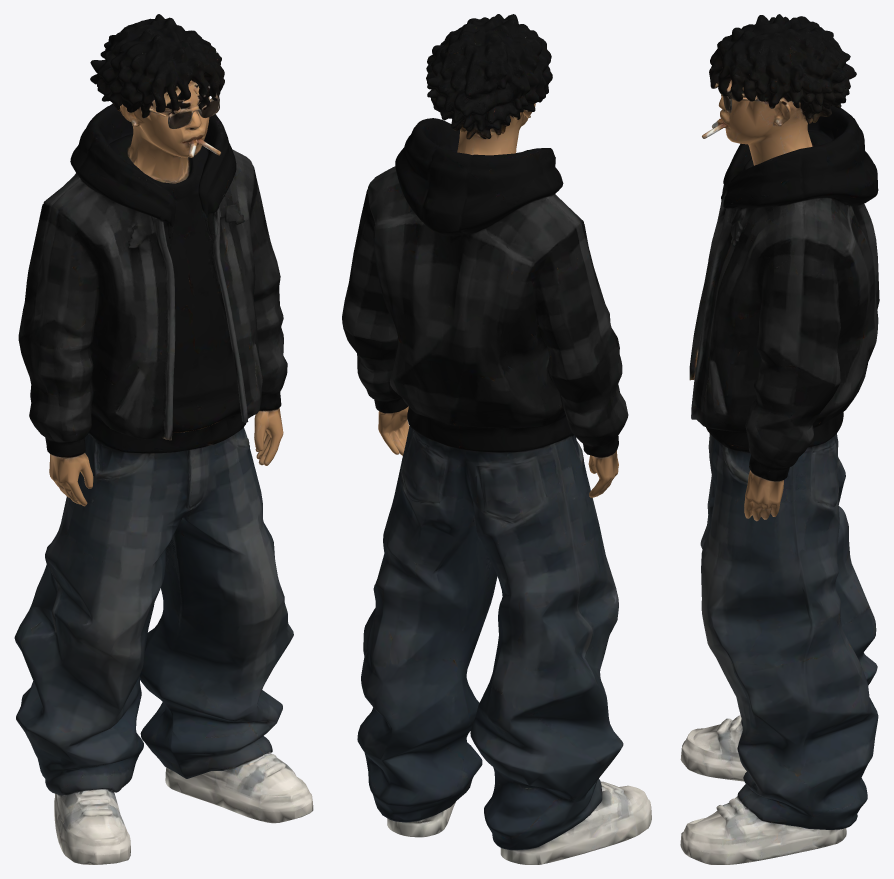
The model's file is team-leather.glb.
The picture shows the model from 3 angles, left to right: view 1: azimuth 30°, elevation 25°; view 2: azimuth 150°, elevation 25°; view 3: azimuth 270°, elevation 25°; orthographic projection. The views are drawn at different scales.
Bounding box in the file's own units: 0.6473 × 1.89 × 0.433.
1 material, 1 textured.
